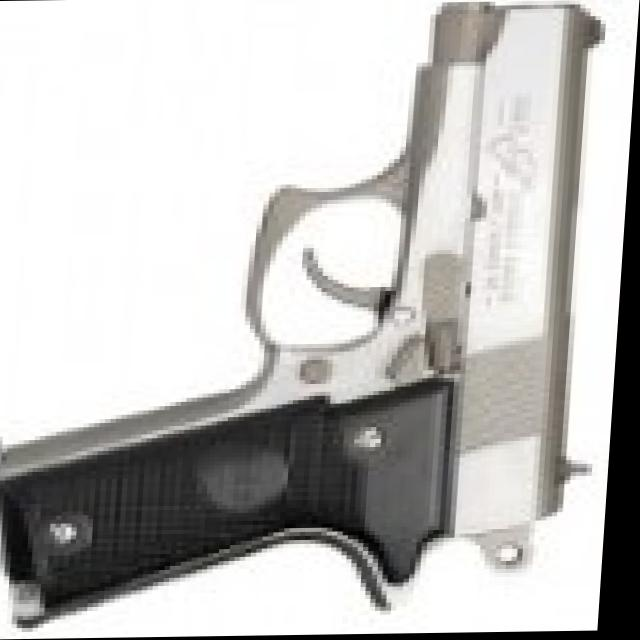handgun: (5, 0, 630, 616)
